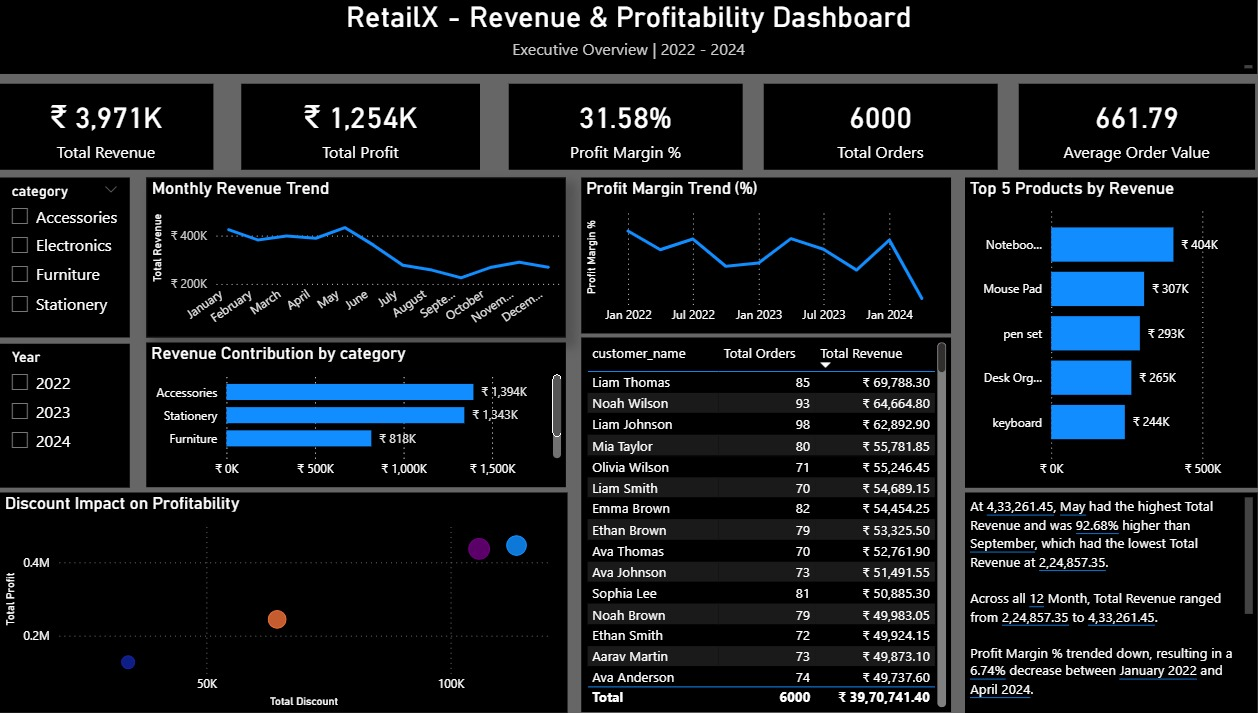

Layout of this report page (visuals, bound fields, positions):
{"tool":"powerbi","page":{"name":"RETAILX","canvas":[1280,720],"ordinal":0},"visuals":[{"type":"clusteredBarChart","title":"Top 5 Products by Revenue","fields":{"Category":["products.product_name"],"Y":["customers.Total Revenue"]},"box":[975.3,176.6,291.1,308.5],"z":0},{"type":"lineChart","title":"Profit Margin Trend (%)","fields":{"Y":["customers.Profit Margin %"],"Category":["orders.order_date.Variation.Date Hierarchy.Year","orders.order_date.Variation.Date Hierarchy.Quarter"]},"box":[593.4,176.6,368.2,155.5],"z":1000},{"type":"lineChart","title":"Monthly Revenue Trend","fields":{"Y":["customers.Total Revenue"],"Category":["orders.order_date.Variation.Date Hierarchy.Month"]},"box":[160.5,176.6,418,159.2],"z":2000},{"type":"barChart","title":"Revenue Contribution by category","fields":{"Category":["products.category"],"Y":["customers.Total Revenue"]},"box":[160.5,341.1,418,144.3],"z":3000},{"type":"card","fields":{"Values":["customers.Total Revenue"]},"box":[13.7,83.7,214,85.8],"z":4000},{"type":"card","fields":{"Values":["customers.Total Profit"]},"box":[255,83.7,237.6,85.8],"z":5000},{"type":"card","fields":{"Values":["customers.Profit Margin %"]},"box":[521.2,83.7,232.6,85.8],"z":6000},{"type":"scatterChart","title":"Discount Impact on Profitability","fields":{"X":["customers.Total Discount"],"Y":["customers.Total Profit"],"Size":["order_items.quantity"],"Series":["products.category"]},"box":[14.9,490.1,564.8,218.9],"z":7000},{"type":"slicer","fields":{"Values":["orders.order_date.Variation.Date Hierarchy.Year"]},"box":[13.7,342.3,130.6,143.1],"z":8000},{"type":"slicer","fields":{"Values":["products.category"]},"box":[13.7,176.9,130.6,159.2],"z":9000},{"type":"card","fields":{"Values":["customers.Average Order Value"]},"box":[1028.8,83.7,235.1,85.8],"z":10000},{"type":"tableEx","fields":{"Values":["customers.customer_name","customers.Total Orders","customers.Total Revenue"]},"box":[593.4,335.9,368.2,373.2],"z":11000},{"type":"textbox","box":[975.3,490.1,291.1,220.2],"z":12000},{"type":"textbox","title":"RetailX - Revenue & Profitability Dashboard","box":[14.9,0,1251.4,73.4],"z":13000},{"type":"card","fields":{"Values":["customers.Total Orders"]},"box":[775,83.7,232.6,85.8],"z":13001}]}

Visuals, with their boxes in screenshot pixels (x1, y1, x2, y2), scaled from the page's 1280x720 canvas onto the 1258x713 screenshot:
"Top 5 Products by Revenue" clusteredBarChart: {"x1": 959, "y1": 175, "x2": 1245, "y2": 480}
"Profit Margin Trend (%)" lineChart: {"x1": 583, "y1": 175, "x2": 945, "y2": 329}
"Monthly Revenue Trend" lineChart: {"x1": 158, "y1": 175, "x2": 569, "y2": 333}
"Revenue Contribution by category" barChart: {"x1": 158, "y1": 338, "x2": 569, "y2": 481}
card - customers.Total Revenue: {"x1": 13, "y1": 83, "x2": 224, "y2": 168}
card - customers.Total Profit: {"x1": 251, "y1": 83, "x2": 484, "y2": 168}
card - customers.Profit Margin %: {"x1": 512, "y1": 83, "x2": 741, "y2": 168}
"Discount Impact on Profitability" scatterChart: {"x1": 15, "y1": 485, "x2": 570, "y2": 702}
slicer - orders.order_date.Variation.Date Hierarchy.Year: {"x1": 13, "y1": 339, "x2": 142, "y2": 481}
slicer - products.category: {"x1": 13, "y1": 175, "x2": 142, "y2": 333}
card - customers.Average Order Value: {"x1": 1011, "y1": 83, "x2": 1242, "y2": 168}
tableEx - customers.customer_name x customers.Total Orders: {"x1": 583, "y1": 333, "x2": 945, "y2": 702}
textbox: {"x1": 959, "y1": 485, "x2": 1245, "y2": 703}
"RetailX - Revenue & Profitability Dashboard" textbox: {"x1": 15, "y1": 0, "x2": 1245, "y2": 73}
card - customers.Total Orders: {"x1": 762, "y1": 83, "x2": 990, "y2": 168}
